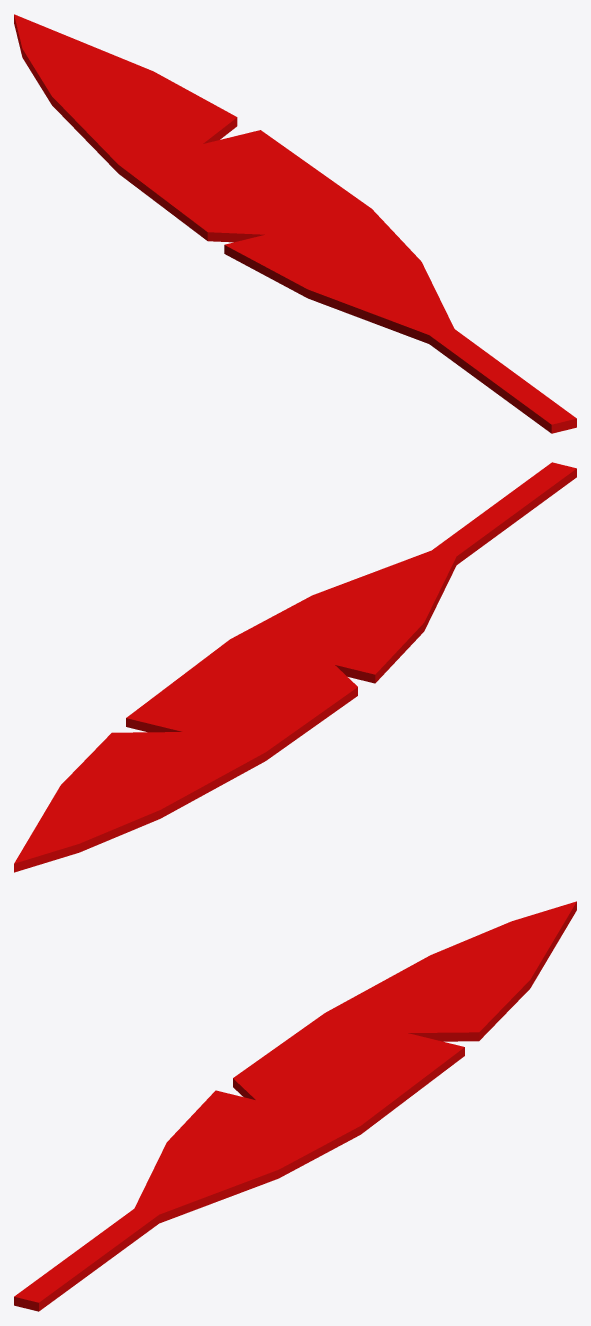
The model's file is Asset_PinkFeather.glb.
3 views of the same model, one above another, from view 1: azimuth 30°, elevation 25°; view 2: azimuth 150°, elevation 25°; view 3: azimuth 330°, elevation 25° (orthographic).
Parts seen in each view (by area): view 1: Asset_PinkFeather; view 2: Asset_PinkFeather; view 3: Asset_PinkFeather.
Part boxes in pixels (left/top/right/bottom): Asset_PinkFeather: left=14, top=14, right=576, bottom=433; Asset_PinkFeather: left=14, top=462, right=576, bottom=872; Asset_PinkFeather: left=14, top=901, right=576, bottom=1311.
Bounding box in the file's own units: 0.0797 × 0.00466 × 0.5187.
